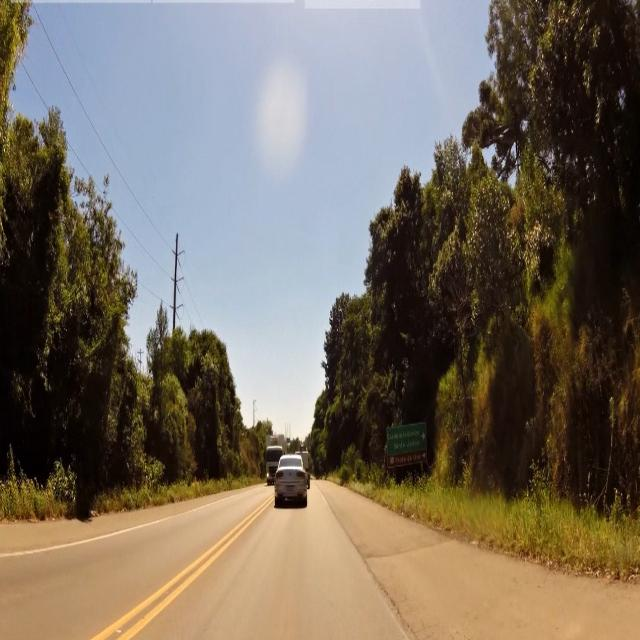I-4: (388, 426, 426, 450)
